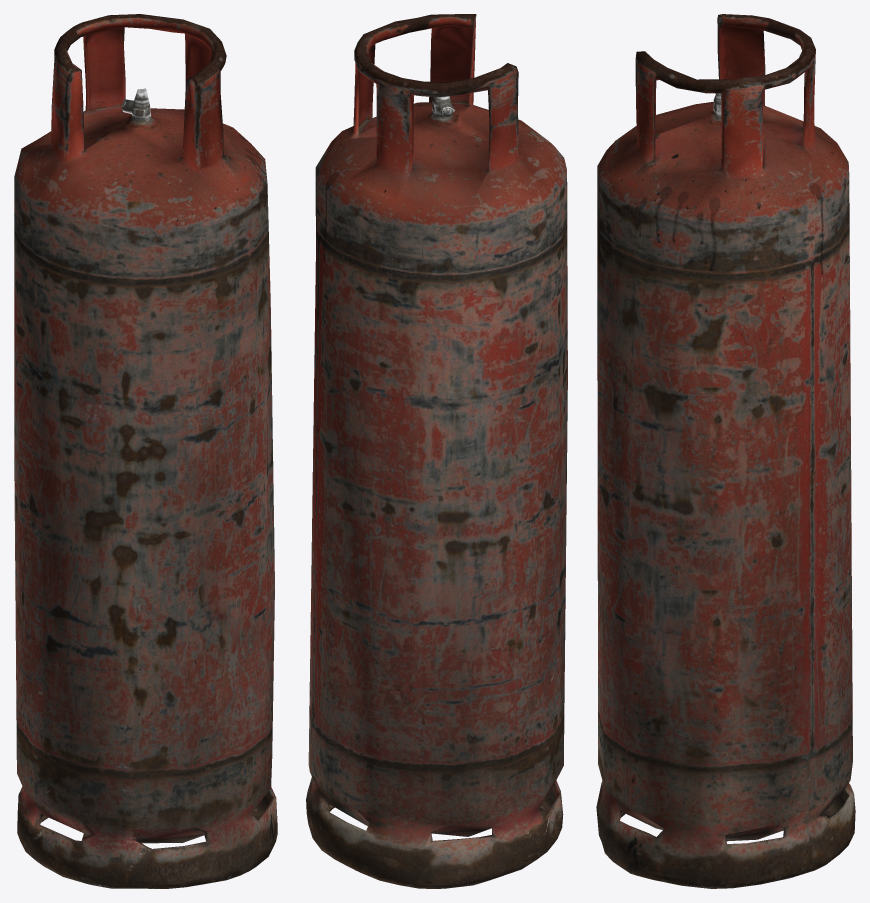
File: rusty_gas_tank.glb
3 renders of one model, left to right at view 1: azimuth 30°, elevation 25°; view 2: azimuth 150°, elevation 25°; view 3: azimuth 270°, elevation 25°, orthographic.
Visible parts, largest first — view 1: udmkdejqx_LOD0_TIER3_000; view 2: udmkdejqx_LOD0_TIER3_000; view 3: udmkdejqx_LOD0_TIER3_000.
Part boxes in pixels (left/top/right/bottom): udmkdejqx_LOD0_TIER3_000: left=14, top=14, right=277, bottom=888; udmkdejqx_LOD0_TIER3_000: left=306, top=14, right=567, bottom=888; udmkdejqx_LOD0_TIER3_000: left=596, top=14, right=855, bottom=888.
Size of the model in its own units: 0.3711 by 1.24 by 0.3663.
1 material, 1 textured.
